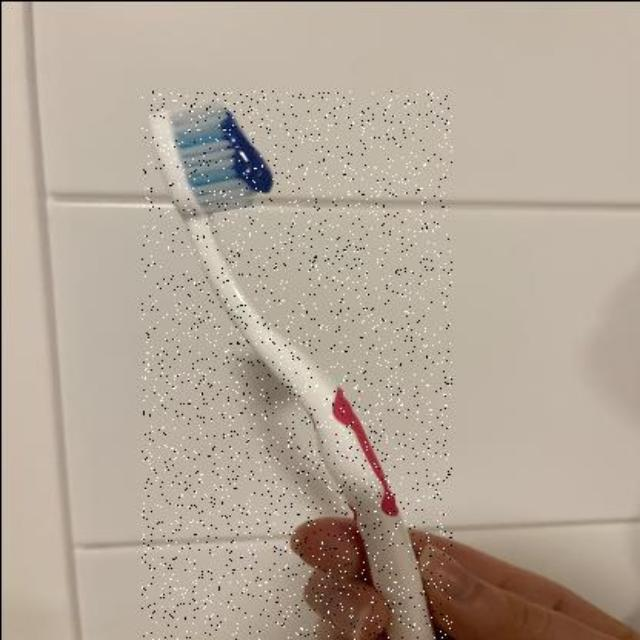toothbrush: (140, 90, 450, 640)
